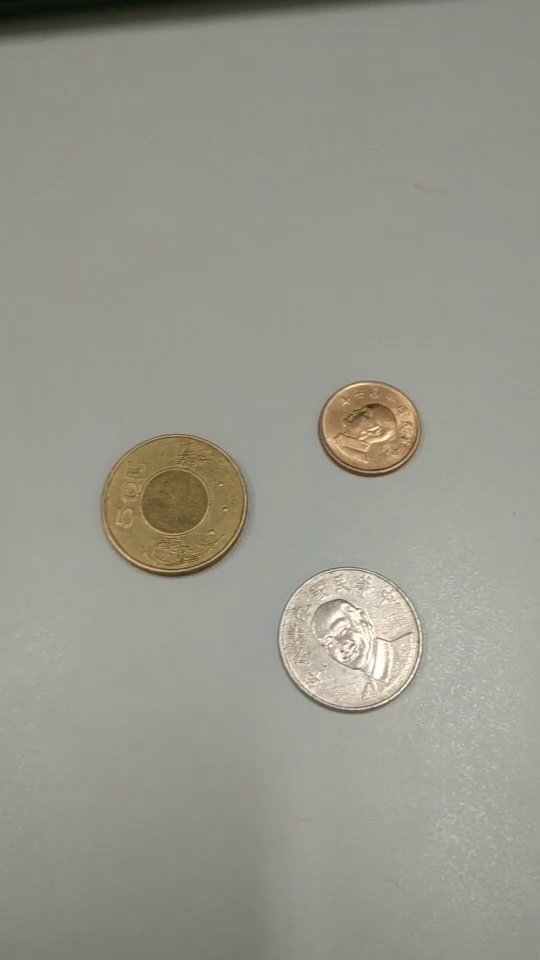NT$ 1: (316, 378, 421, 476)
NT$ 10: (278, 567, 422, 713)
NT$ 50: (101, 435, 250, 579)
